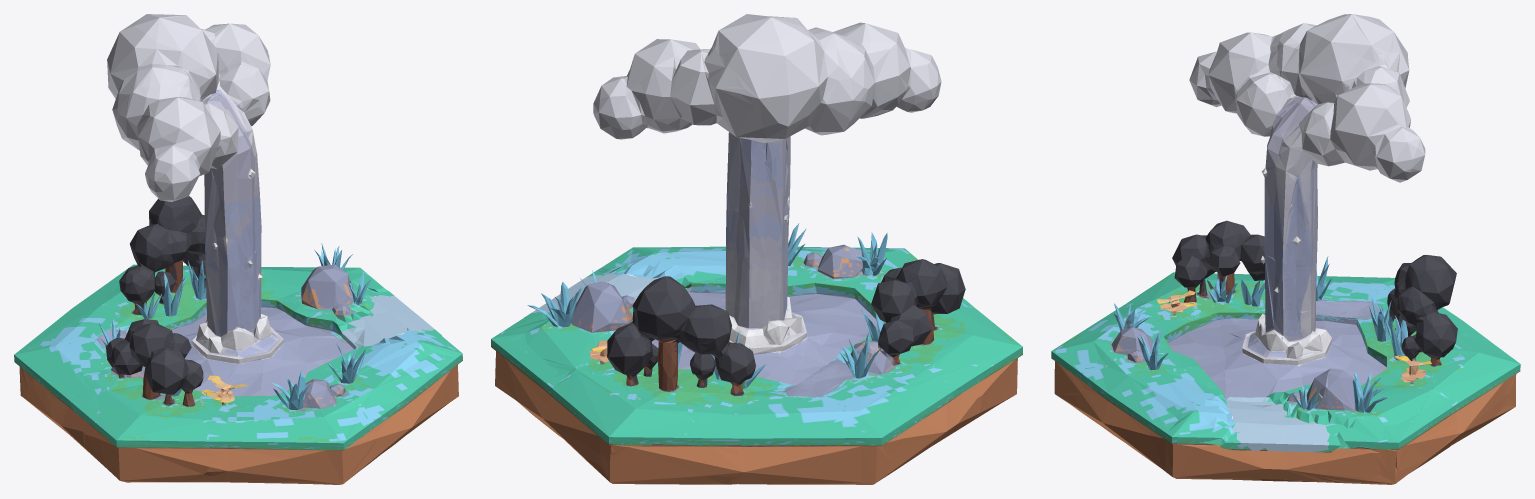
File: upside-down waterfall.glb
The picture shows the model from 3 angles, left to right: view 1: azimuth 30°, elevation 25°; view 2: azimuth 150°, elevation 25°; view 3: azimuth 270°, elevation 25°; orthographic projection. The views are drawn at different scales.
Parts seen in each view (by area): view 1: threedium_node_eae6ce02-1d34-48fc-af4c-5a4a95c4d9dd; view 2: threedium_node_eae6ce02-1d34-48fc-af4c-5a4a95c4d9dd; view 3: threedium_node_eae6ce02-1d34-48fc-af4c-5a4a95c4d9dd.
Part boxes in pixels (x1,y1,x2,y2): threedium_node_eae6ce02-1d34-48fc-af4c-5a4a95c4d9dd: (14, 14, 462, 484); threedium_node_eae6ce02-1d34-48fc-af4c-5a4a95c4d9dd: (491, 14, 1022, 484); threedium_node_eae6ce02-1d34-48fc-af4c-5a4a95c4d9dd: (1051, 14, 1520, 484).
Bounding box in the file's own units: 0.988 × 0.9835 × 1.13.
2 materials, 1 textured.
